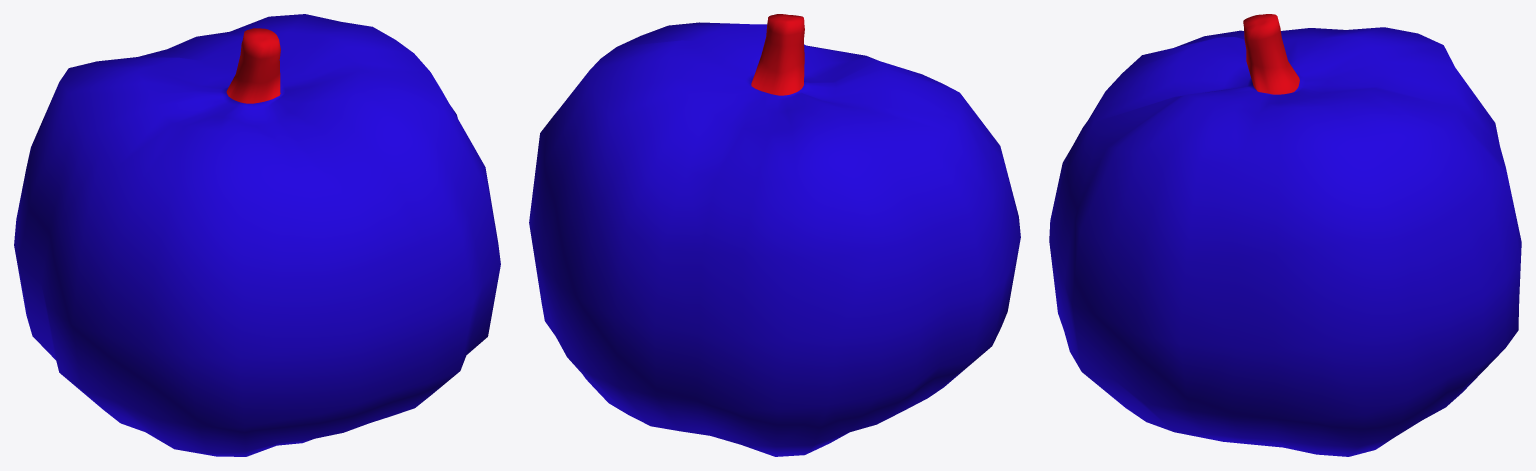
File: Pumpkin.fbx
The picture shows the model from 3 angles, left to right: view 1: azimuth 30°, elevation 25°; view 2: azimuth 150°, elevation 25°; view 3: azimuth 270°, elevation 25°; orthographic projection.
Visible parts, largest first — view 1: Sphere; view 2: Sphere; view 3: Sphere.
Boxes of the visible parts, x1,y1,x2,y2 form: Sphere: [14, 14, 500, 456]; Sphere: [529, 14, 1020, 456]; Sphere: [1049, 14, 1521, 456].
Bounding box in the file's own units: 201 × 172 × 194.
